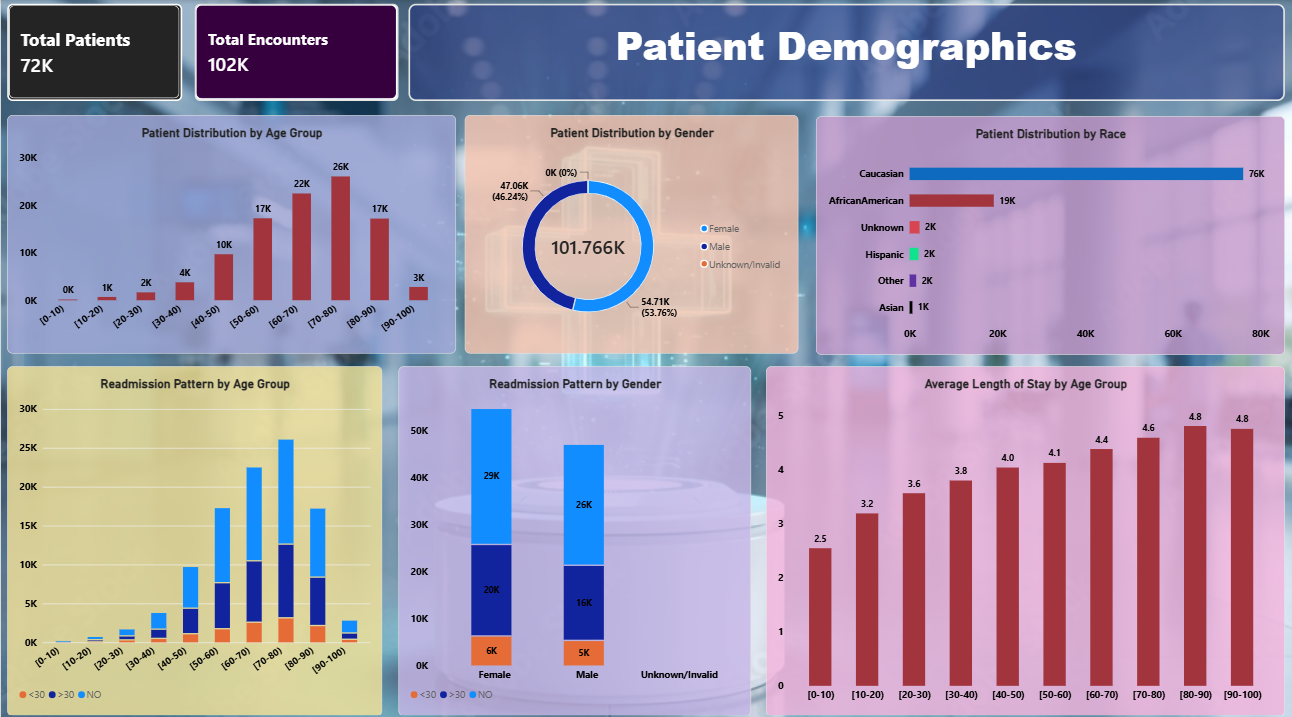

This screenshot's page, from the dashboard's own definition file:
{"tool":"powerbi","page":{"name":"Patient Demographics","canvas":[1920,1080],"ordinal":1},"visuals":[{"type":"cardVisual","fields":{"Data":["diabetic_data.Total Patients"]},"box":[9.2,5.5,257.7,143.6],"z":0},{"type":"cardVisual","fields":{"Data":["diabetic_data.Total Encounters"]},"box":[285.3,5.5,300,143.6],"z":1000},{"type":"clusteredColumnChart","title":"Patient Distribution by Age Group","fields":{"Category":["Dim_Age.age"],"Y":["CountNonNull(diabetic_data.encounter_id)"]},"box":[9.2,169.3,660.7,351.5],"z":2000},{"type":"donutChart","title":"Patient Distribution by Gender","fields":{"Category":["diabetic_data.gender"],"Y":["CountNonNull(diabetic_data.encounter_id)"]},"box":[682.8,169.3,491.4,351.5],"z":3000},{"type":"clusteredBarChart","title":"Patient Distribution by Race","fields":{"Category":["diabetic_data.race"],"Y":["CountNonNull(diabetic_data.encounter_id)"]},"box":[1200,171.2,690.2,351.5],"z":4000},{"type":"columnChart","title":"Readmission Pattern by Age Group","fields":{"Category":["Dim_Age.age"],"Series":["diabetic_data.readmitted"],"Y":["CountNonNull(diabetic_data.encounter_id)"]},"box":[9.2,539.3,552.2,515.3],"z":5000},{"type":"columnChart","title":"Readmission Pattern by Gender","fields":{"Category":["diabetic_data.gender"],"Series":["diabetic_data.readmitted"],"Y":["CountNonNull(diabetic_data.encounter_id)"]},"box":[585.3,539.3,519,515.3],"z":6000},{"type":"lineStackedColumnComboChart","title":"Average Length of Stay by Age Group","fields":{"Category":["Dim_Age.age"],"Y":["diabetic_data.Average Length of Stay"]},"box":[1126.4,539.3,763.8,515.3],"z":7000},{"type":"textbox","box":[600,5.5,1290.2,143.6],"z":8000}]}

Visuals, with their boxes in screenshot pixels (x1, y1, x2, y2), scaled from the page's 1920x1080 canvas onto the 1292x717 screenshot:
cardVisual - diabetic_data.Total Patients: BBox(6, 4, 180, 99)
cardVisual - diabetic_data.Total Encounters: BBox(192, 4, 394, 99)
"Patient Distribution by Age Group" clusteredColumnChart: BBox(6, 112, 451, 346)
"Patient Distribution by Gender" donutChart: BBox(459, 112, 790, 346)
"Patient Distribution by Race" clusteredBarChart: BBox(808, 114, 1272, 347)
"Readmission Pattern by Age Group" columnChart: BBox(6, 358, 378, 700)
"Readmission Pattern by Gender" columnChart: BBox(394, 358, 743, 700)
"Average Length of Stay by Age Group" lineStackedColumnComboChart: BBox(758, 358, 1272, 700)
textbox: BBox(404, 4, 1272, 99)
